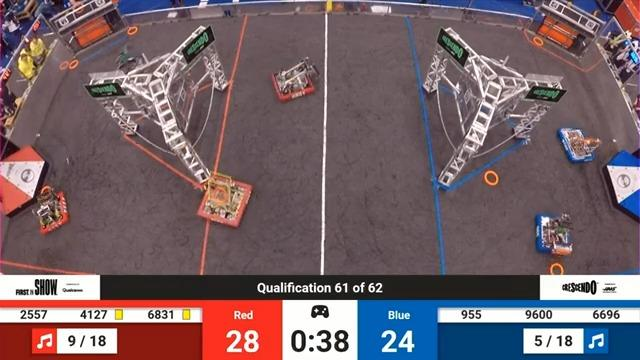robot: (191, 160, 260, 231), (267, 50, 324, 107), (24, 185, 76, 236), (534, 208, 579, 261), (557, 122, 601, 169), (113, 43, 161, 76)
